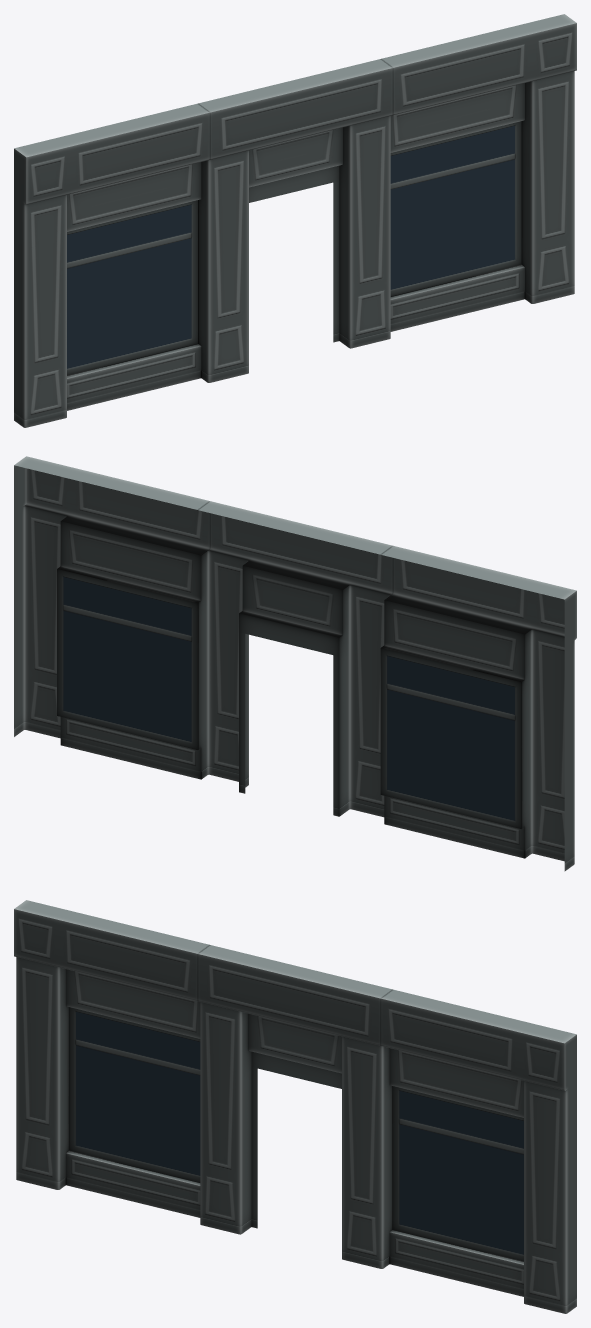
Rendered from StreetStoreFront01_1.FBX.
3 renders of one model, top to bottom at view 1: azimuth 30°, elevation 25°; view 2: azimuth 150°, elevation 25°; view 3: azimuth 330°, elevation 25°, orthographic.
Visible parts, largest first — view 1: StreetStoreFront01_1; view 2: StreetStoreFront01_1; view 3: StreetStoreFront01_1.
Part boxes in pixels (x1,y1,x2,y2): StreetStoreFront01_1: (14,14,576,427); StreetStoreFront01_1: (14,456,576,871); StreetStoreFront01_1: (14,900,576,1313).
Size of what is drawn, in the model's own units: 9 by 4.25 by 0.35.
